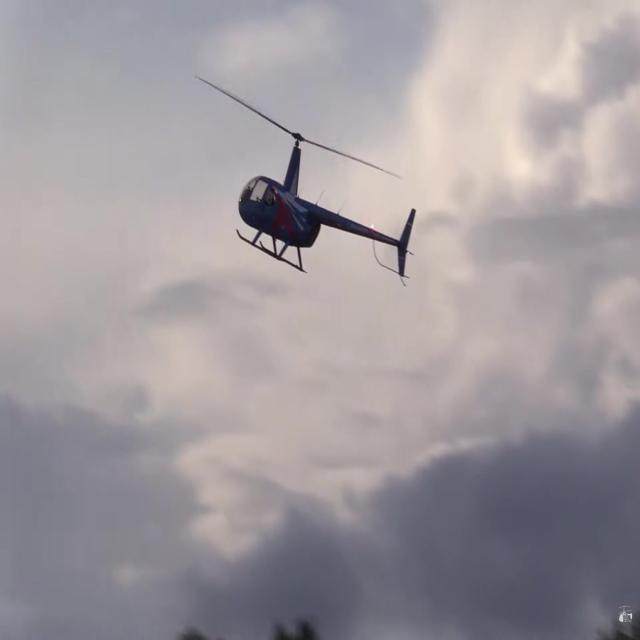CIV_HELO: (235, 128, 418, 279)
